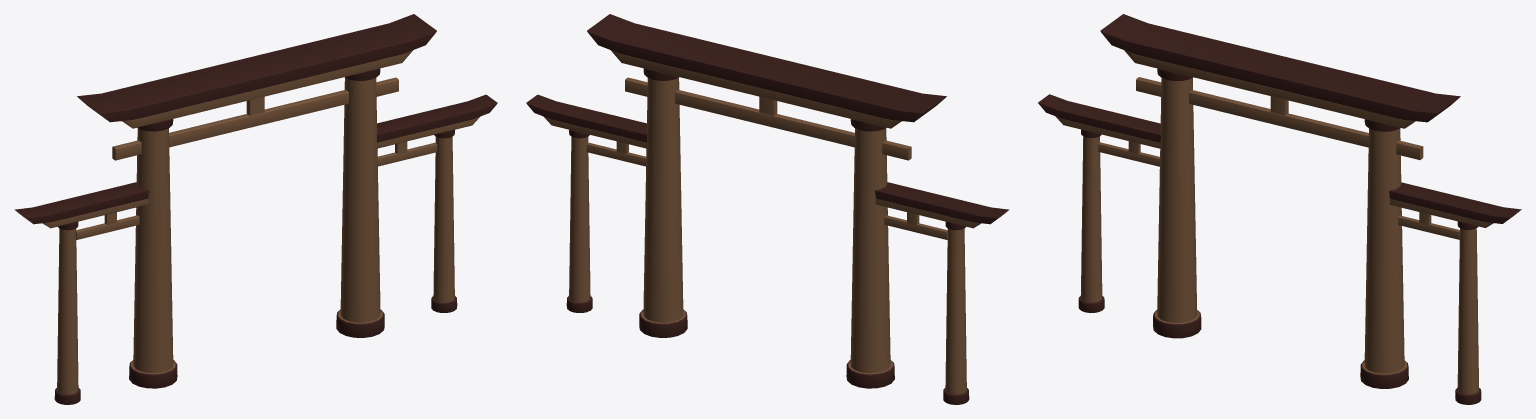
File: Torii_2.fbx
3 views of the same model, side by side, from view 1: azimuth 30°, elevation 25°; view 2: azimuth 150°, elevation 25°; view 3: azimuth 330°, elevation 25° (orthographic).
Visible parts, largest first — view 1: Torii_2; view 2: Torii_2; view 3: Torii_2.
Part boxes in pixels (bbox=[...]): Torii_2: bbox=[14, 14, 497, 404]; Torii_2: bbox=[526, 14, 1009, 404]; Torii_2: bbox=[1038, 14, 1521, 404].
Bounding box in the file's own units: 15624 × 9178 × 1400.
